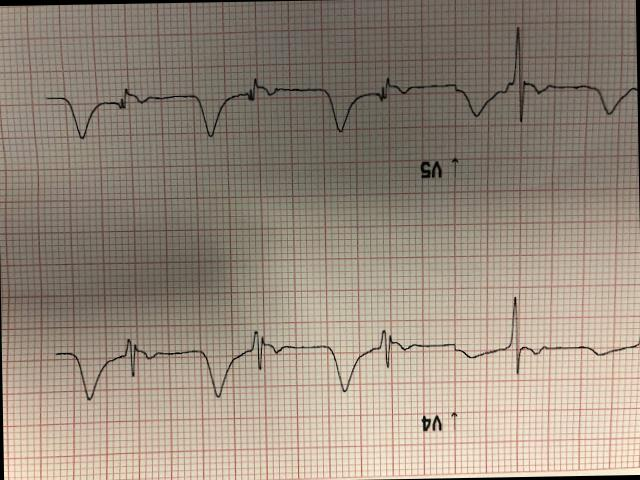Lead_V4: (43, 275, 640, 453)
Lead_V5: (31, 10, 639, 202)
